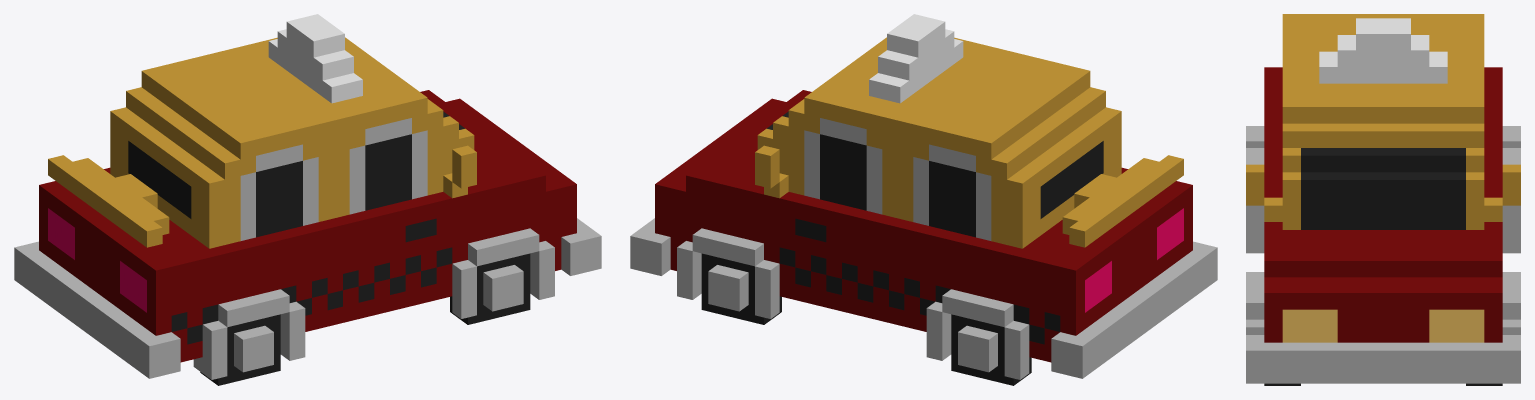
The model's file is Texturas.fbx.
3 renders of one model, left to right at view 1: azimuth 30°, elevation 25°; view 2: azimuth 150°, elevation 25°; view 3: azimuth 270°, elevation 25°, orthographic.
Parts seen in each view (by area): view 1: Cubo.1910; view 2: Cubo.1910; view 3: Cubo.1910.
Part boxes in pixels (x1,y1,x2,y2): Cubo.1910: (14,14,601,385); Cubo.1910: (630,14,1217,385); Cubo.1910: (1246,14,1520,385).
Size of the model in its own units: 1500 by 1700 by 2900.
